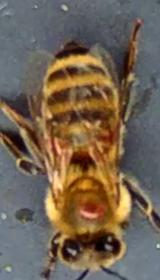varroa_mite: (66, 184, 120, 225), (38, 125, 78, 160), (90, 121, 120, 152)
